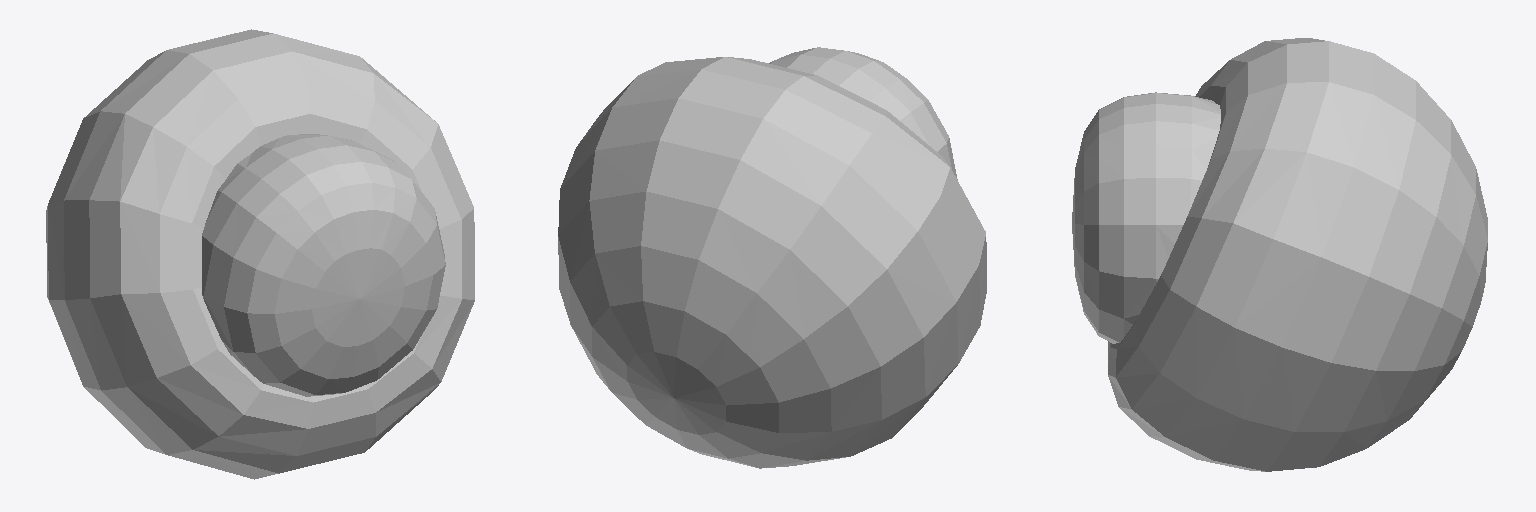
The model's file is mushroom.obj.
3 renders of one model, left to right at view 1: azimuth 30°, elevation 25°; view 2: azimuth 150°, elevation 25°; view 3: azimuth 270°, elevation 25°, orthographic.
Visible parts, largest first — view 1: Itemkinoko__mt_ItemKinoko; view 2: Itemkinoko__mt_ItemKinoko; view 3: Itemkinoko__mt_ItemKinoko.
Boxes of the visible parts, x1=… form: Itemkinoko__mt_ItemKinoko: x1=46, y1=29, x2=474, y2=479; Itemkinoko__mt_ItemKinoko: x1=558, y1=47, x2=986, y2=468; Itemkinoko__mt_ItemKinoko: x1=1072, y1=38, x2=1487, y2=471.
Bounding box in the file's own units: 5.83 × 5.7 × 5.53.